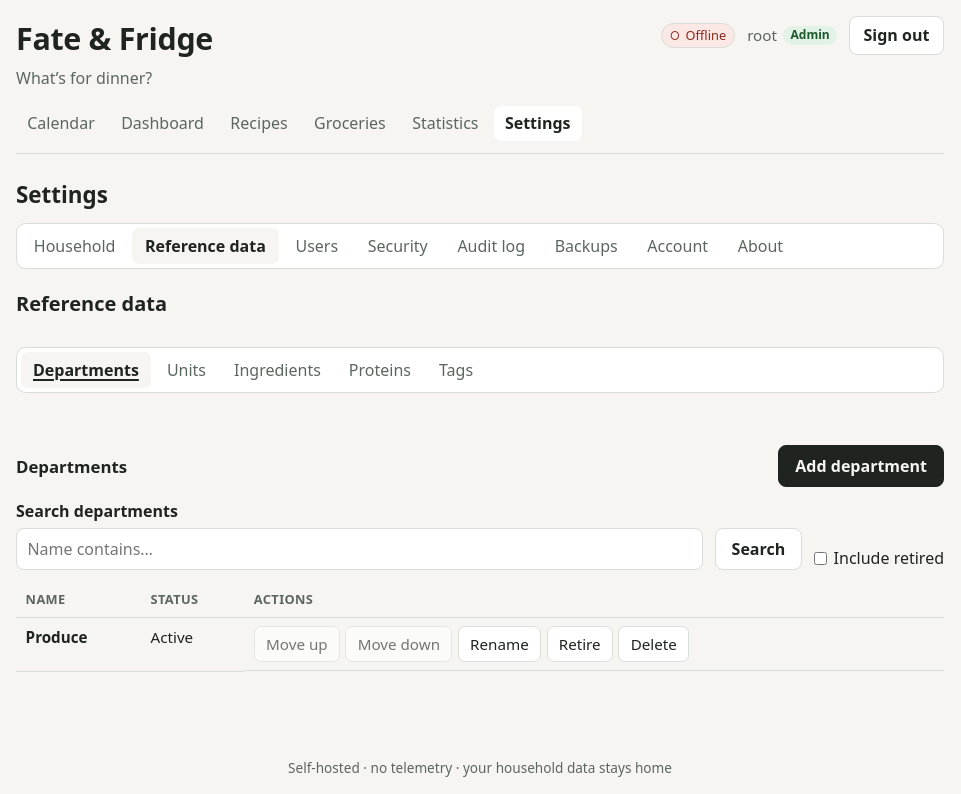
Test: departments tab › lists active departments and reveals retired rows on request
Expected: the column heading "Produce" is shown, [16, 618, 141, 671]
Expected: the text "Active" is shown, [141, 618, 244, 671]
What coordinates should you click on to do the following:
click the checkbox labelled "Include retired"
I would click on:
 (821, 558)
Its box is [814, 552, 827, 565].
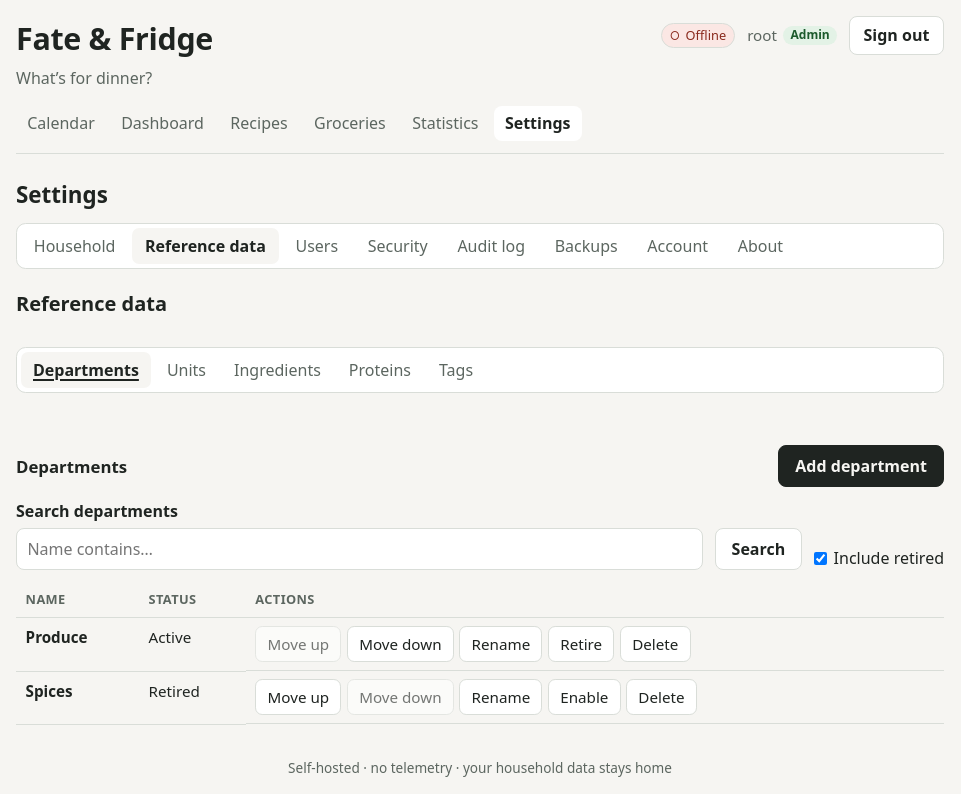
Expected: the column heading "Spices" is shown, [16, 671, 139, 724]
Expected: the text "Retired" is shown, [139, 671, 246, 724]
